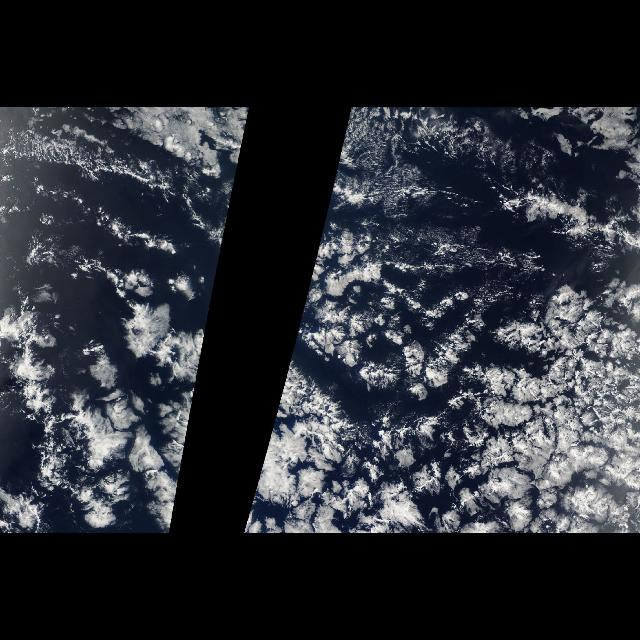Fish: (491, 171, 632, 253)
Flower: (242, 252, 640, 534), (0, 242, 220, 534)
